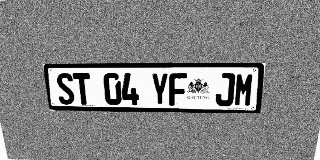0: (103, 73, 122, 105)
4: (121, 73, 139, 105)
F: (169, 73, 187, 106)
J: (215, 73, 235, 106)
M: (233, 73, 255, 107)
S: (55, 73, 75, 105)
T: (72, 73, 92, 105)
Y: (151, 73, 168, 106)
